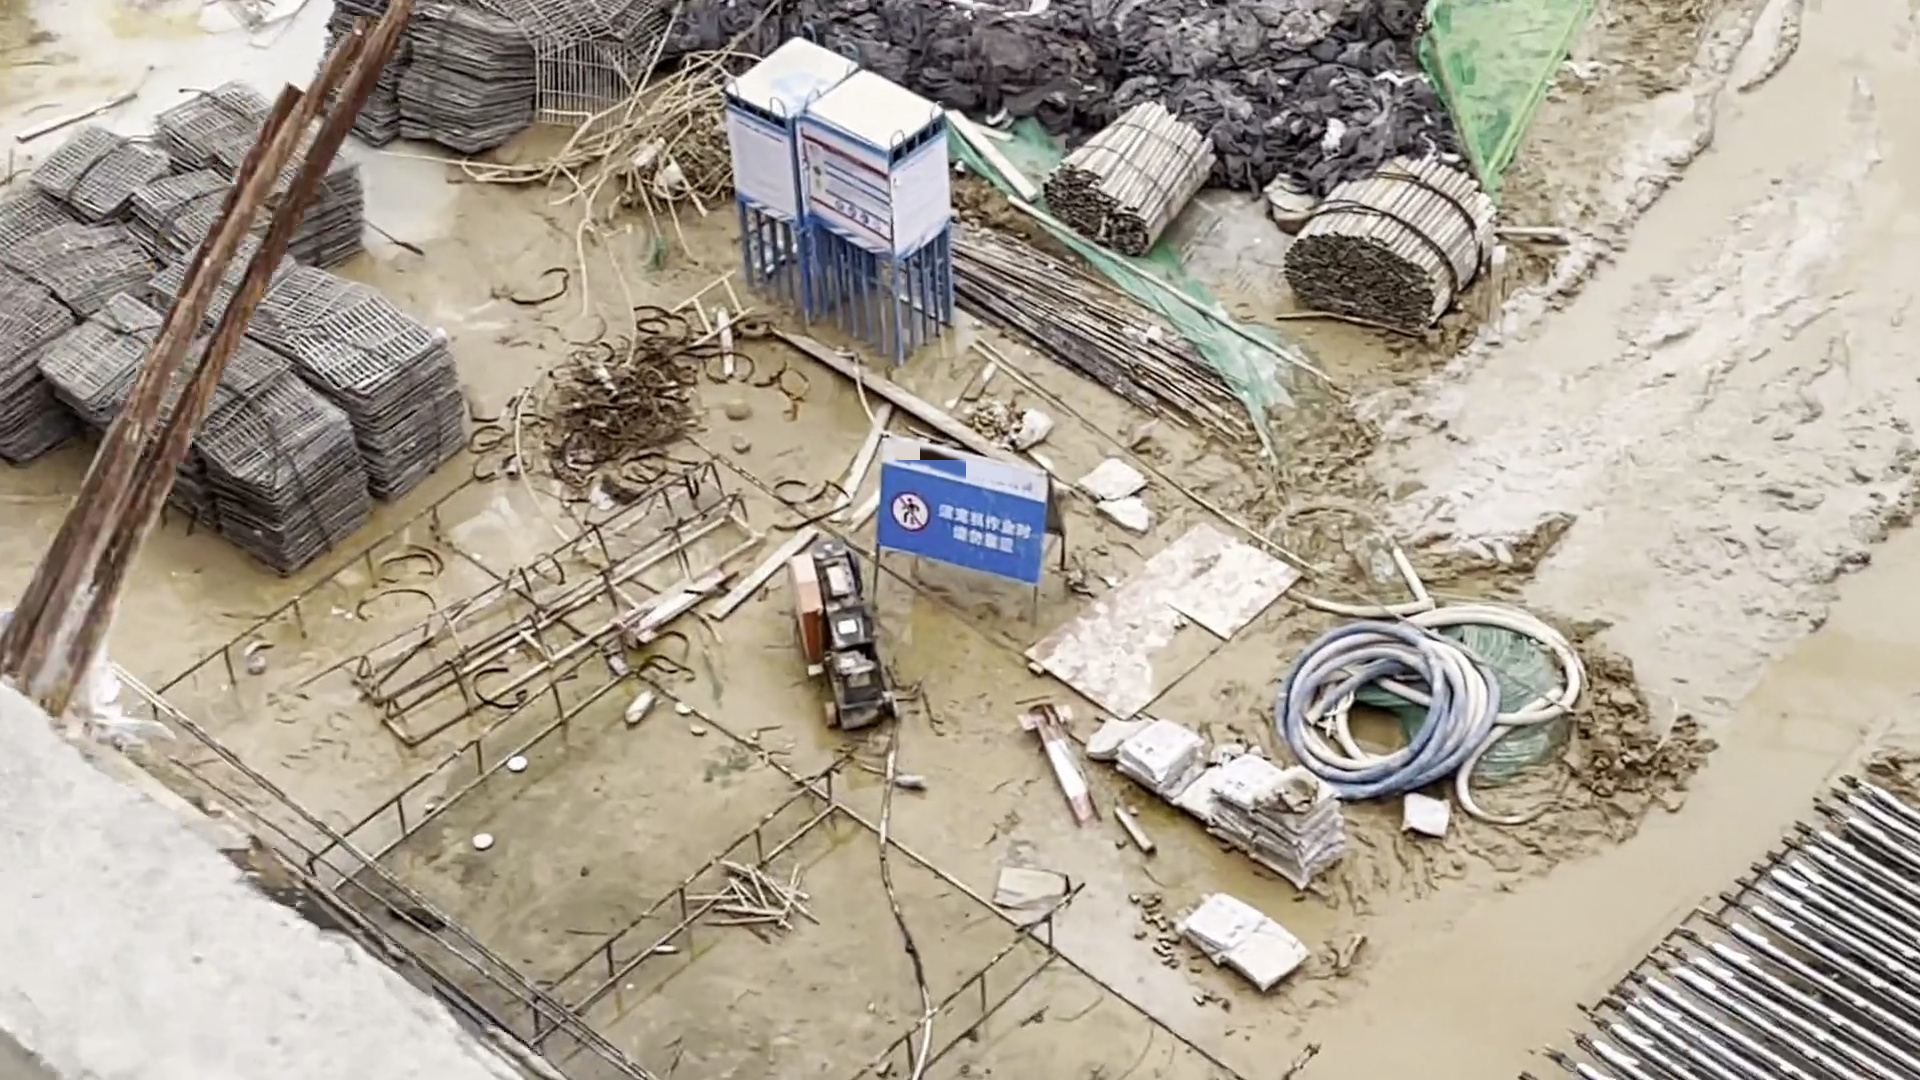slogan: (877, 469, 1054, 575)
wood: (1284, 158, 1503, 334), (1044, 98, 1222, 252)
